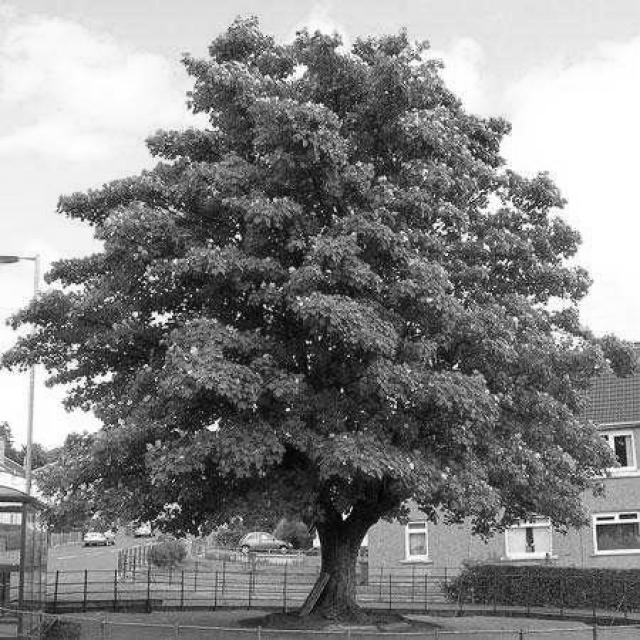Tree: (5, 20, 615, 610)
